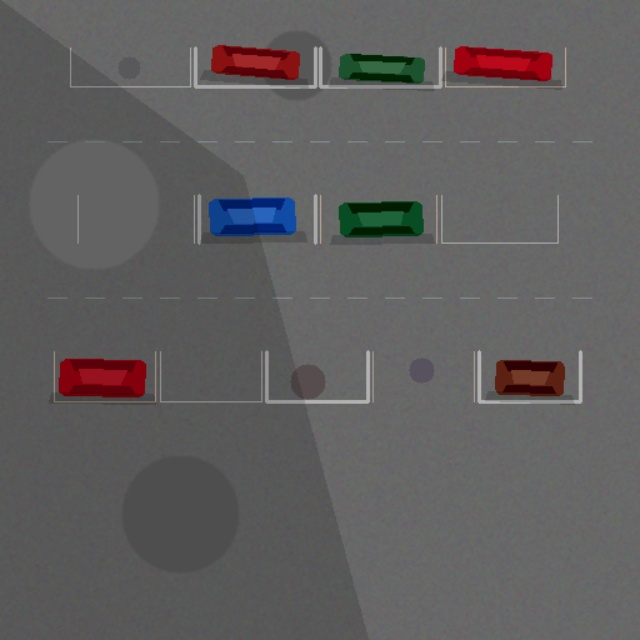space-empty: (77, 195, 194, 243), (441, 195, 557, 243), (160, 351, 261, 401), (266, 351, 367, 401), (373, 351, 474, 401), (70, 47, 190, 86)
space-occupied: (199, 195, 315, 243), (320, 195, 436, 243), (54, 351, 155, 401), (479, 351, 580, 401), (195, 47, 315, 86), (320, 47, 440, 86), (445, 47, 565, 86)
